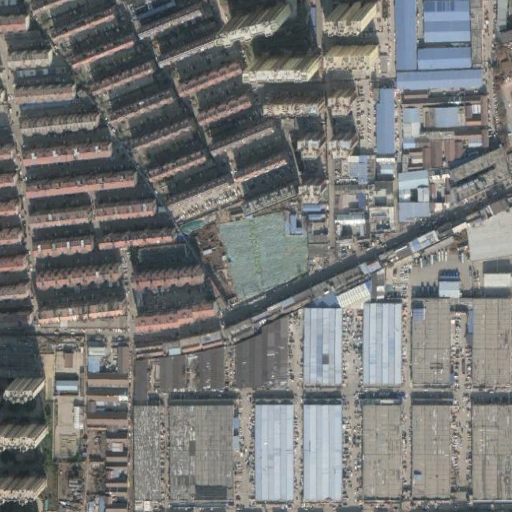cw: (217, 209, 312, 301)
